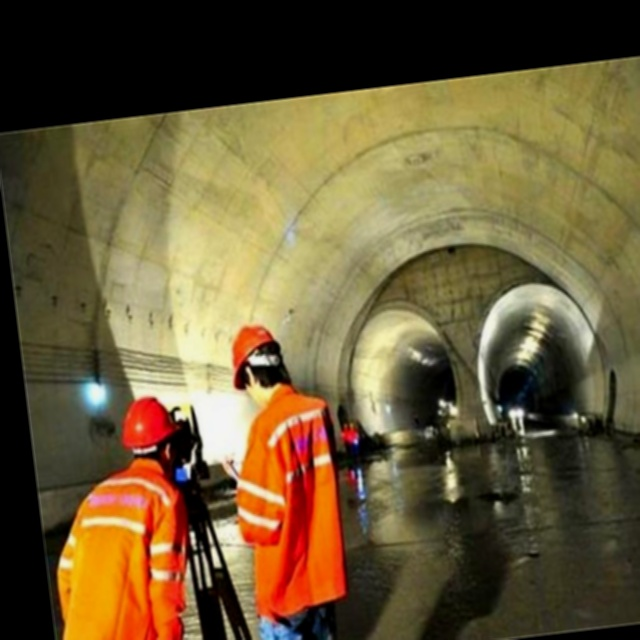Con_Casco: (227, 322, 285, 404)
Con_Chaleco: (44, 462, 192, 640), (235, 400, 349, 610)
